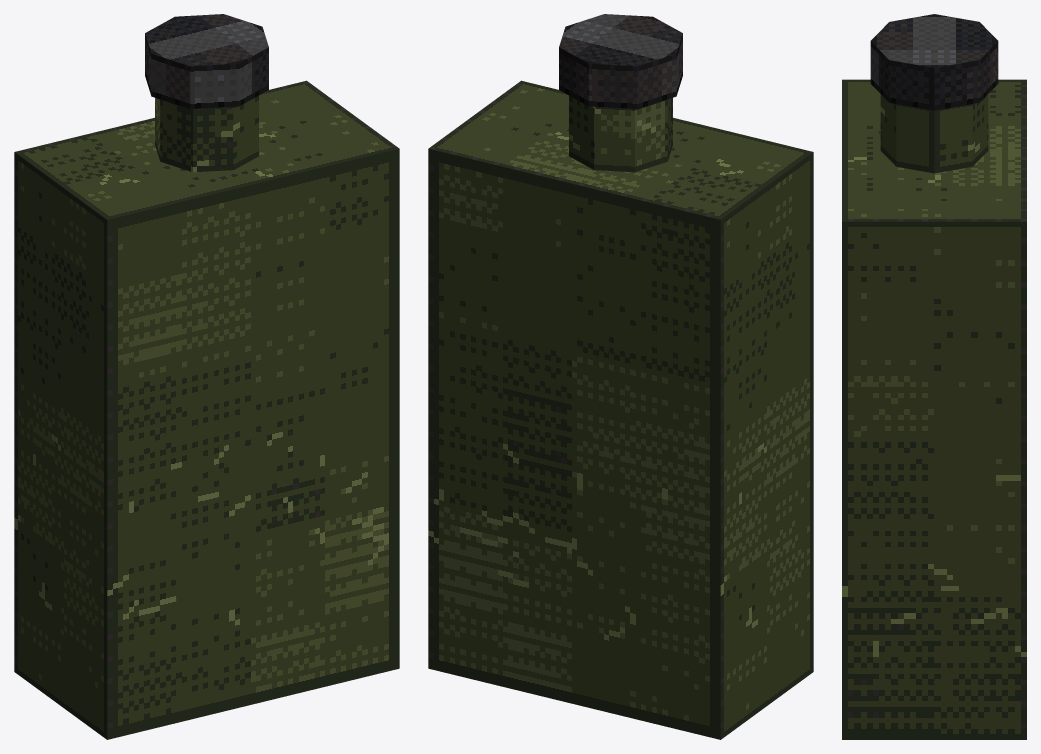
File: SM_Canteen_01.glb
The picture shows the model from 3 angles, left to right: view 1: azimuth 30°, elevation 25°; view 2: azimuth 150°, elevation 25°; view 3: azimuth 270°, elevation 25°; orthographic projection.
Visible parts, largest first — view 1: SM_Canteen_01; view 2: SM_Canteen_01; view 3: SM_Canteen_01.
Boxes of the visible parts, x1=… form: SM_Canteen_01: x1=14, y1=14, x2=399, y2=739; SM_Canteen_01: x1=428, y1=14, x2=813, y2=739; SM_Canteen_01: x1=842, y1=14, x2=1026, y2=739.
Size of the model in its own units: 0.1 by 0.206 by 0.055.
1 material, 1 textured.
